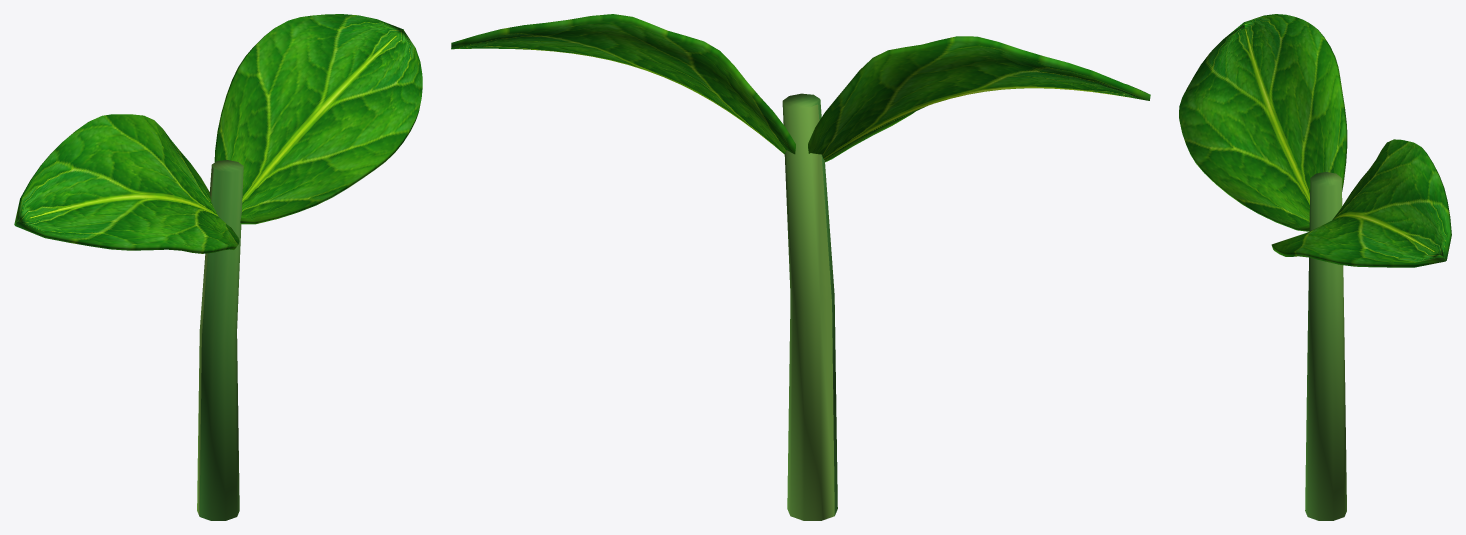
Rendered from NP_Chrysanthemum_Sprout.fbx.
3 views of the same model, side by side, from view 1: azimuth 30°, elevation 25°; view 2: azimuth 150°, elevation 25°; view 3: azimuth 270°, elevation 25° (orthographic). The views are drawn at different scales.
Parts seen in each view (by area): view 1: NP_Chrysanthemum_Sprout; view 2: NP_Chrysanthemum_Sprout; view 3: NP_Chrysanthemum_Sprout.
Boxes of the visible parts, bbox=[...] form: NP_Chrysanthemum_Sprout: bbox=[14, 14, 422, 520]; NP_Chrysanthemum_Sprout: bbox=[451, 14, 1150, 520]; NP_Chrysanthemum_Sprout: bbox=[1179, 14, 1451, 520].
Bounding box in the file's own units: 15.65 × 13.1 × 7.69.
